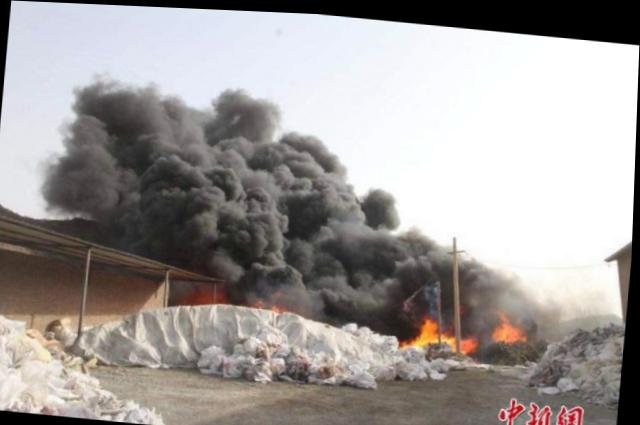fire: (417, 310, 441, 340), (493, 314, 520, 337), (459, 330, 479, 349), (441, 328, 457, 341), (400, 332, 416, 342)
smoke: (40, 77, 251, 225), (336, 183, 431, 324), (238, 95, 302, 288), (423, 233, 562, 318), (286, 130, 351, 294)
